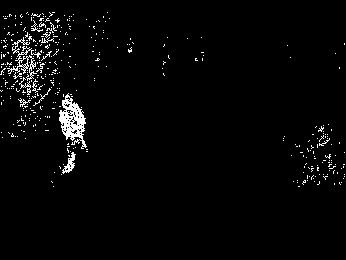person: (55, 93, 90, 177)
